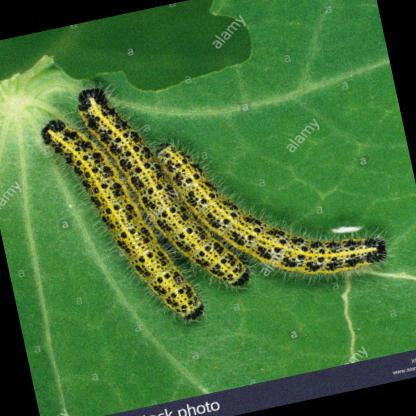pieris: (74, 80, 256, 286), (37, 120, 203, 317), (159, 136, 386, 276)
